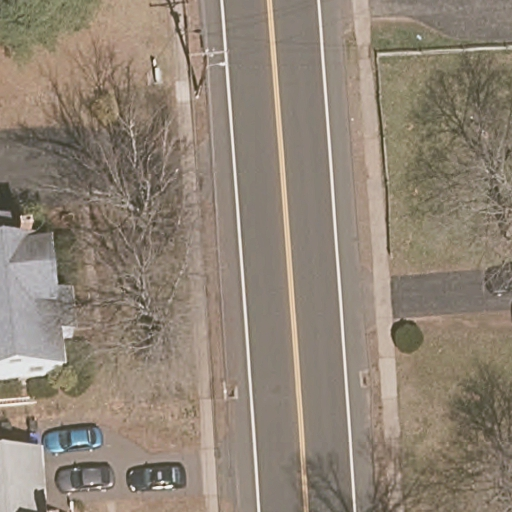DT: (188, 47, 228, 99)
